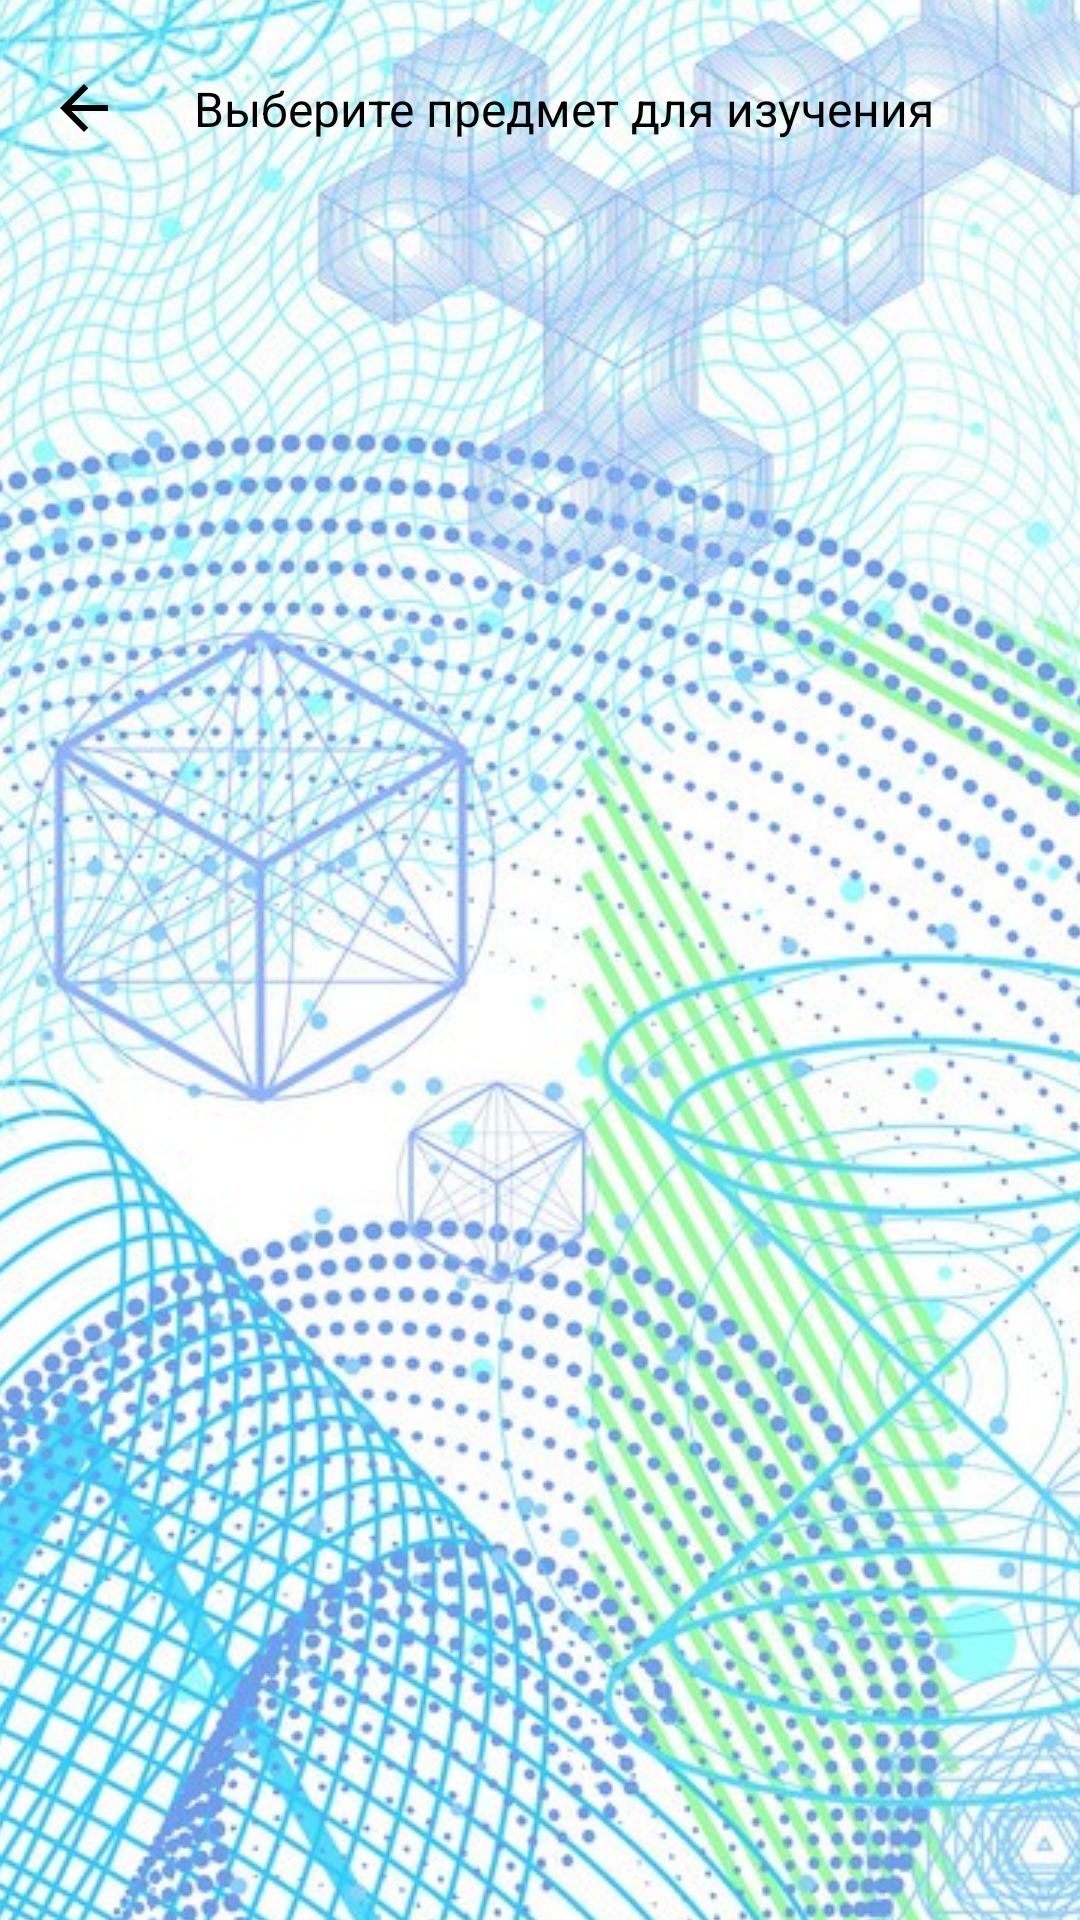

Icon click points for this 1080*1920 phone screenshot, format point (x, y):
back: point (84, 108)
